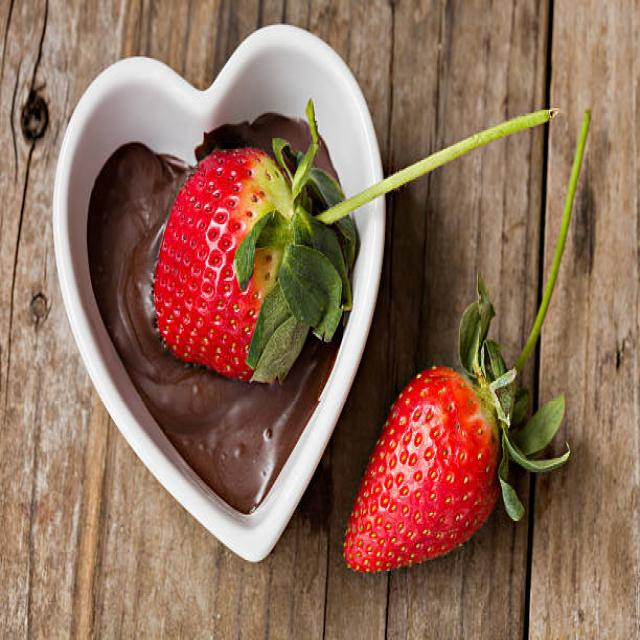Healthy Fruit: (343, 363, 501, 570), (154, 145, 294, 377)
